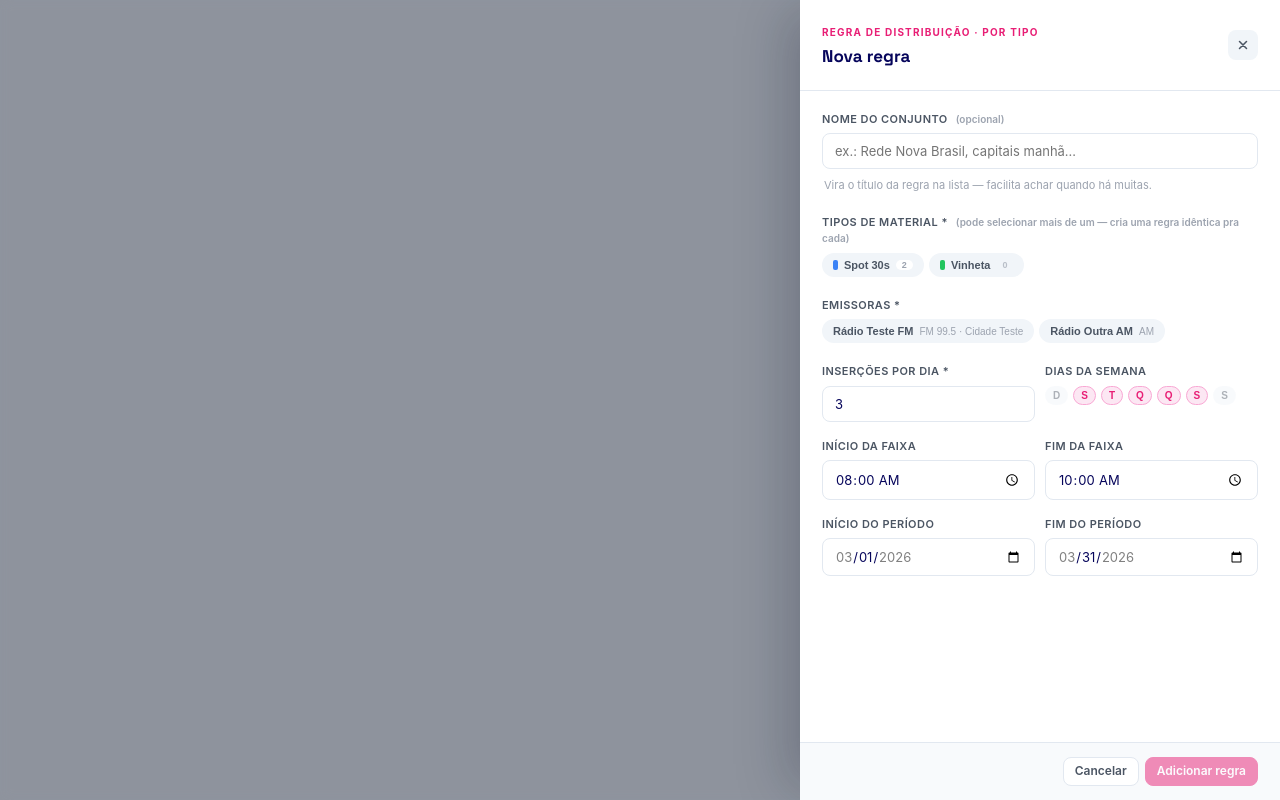
Scenario: RuleSidePanel — criação › "Adicionar regra" fica bloqueado até escolher tipo e emissora
Expected: the button "Adicionar regra" is disabled, 1145,757 -> 1258,786
Click the button "Spot 30s 2": {"x": 873, "y": 264} 822,252 -> 924,276
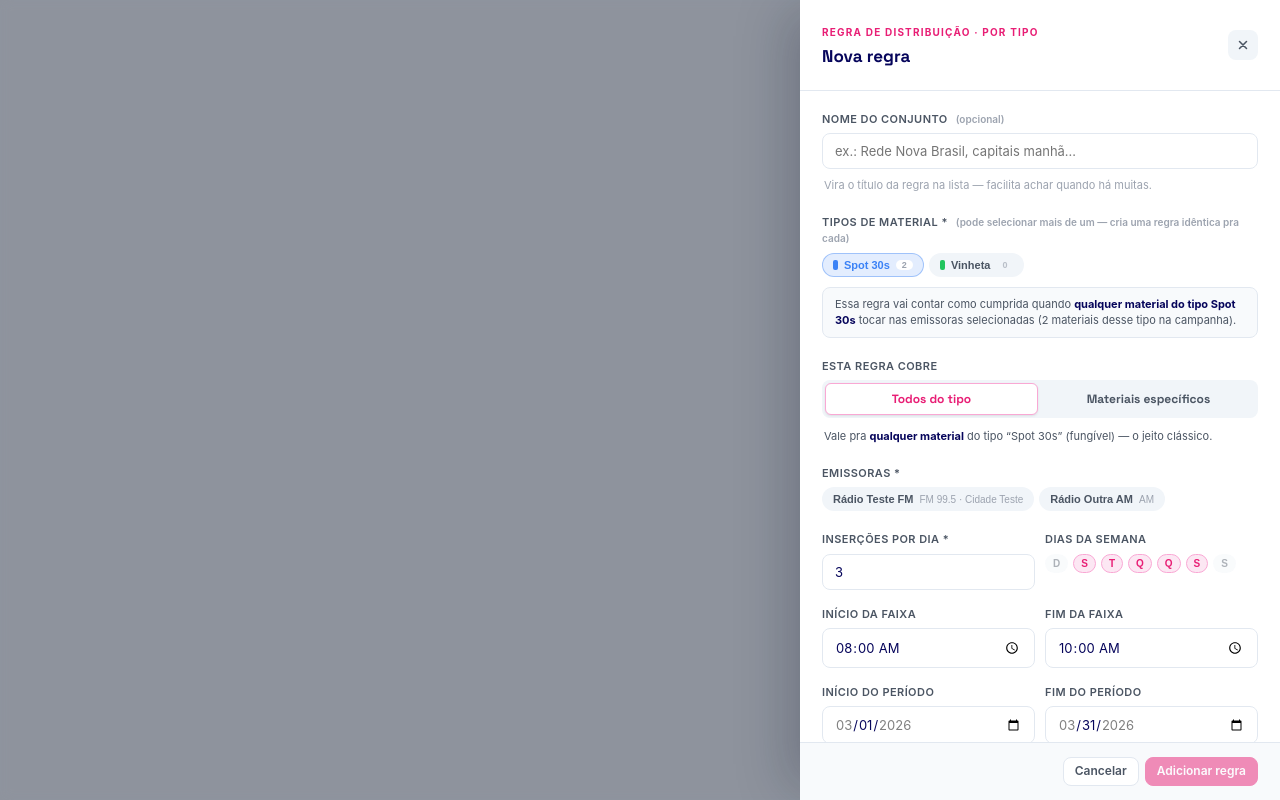
Expected: the button "Adicionar regra" is disabled, 1145,757 -> 1258,786
Click the button "Rádio Teste FM FM 99.5 · Cidade Teste": {"x": 928, "y": 499} 822,487 -> 1034,511
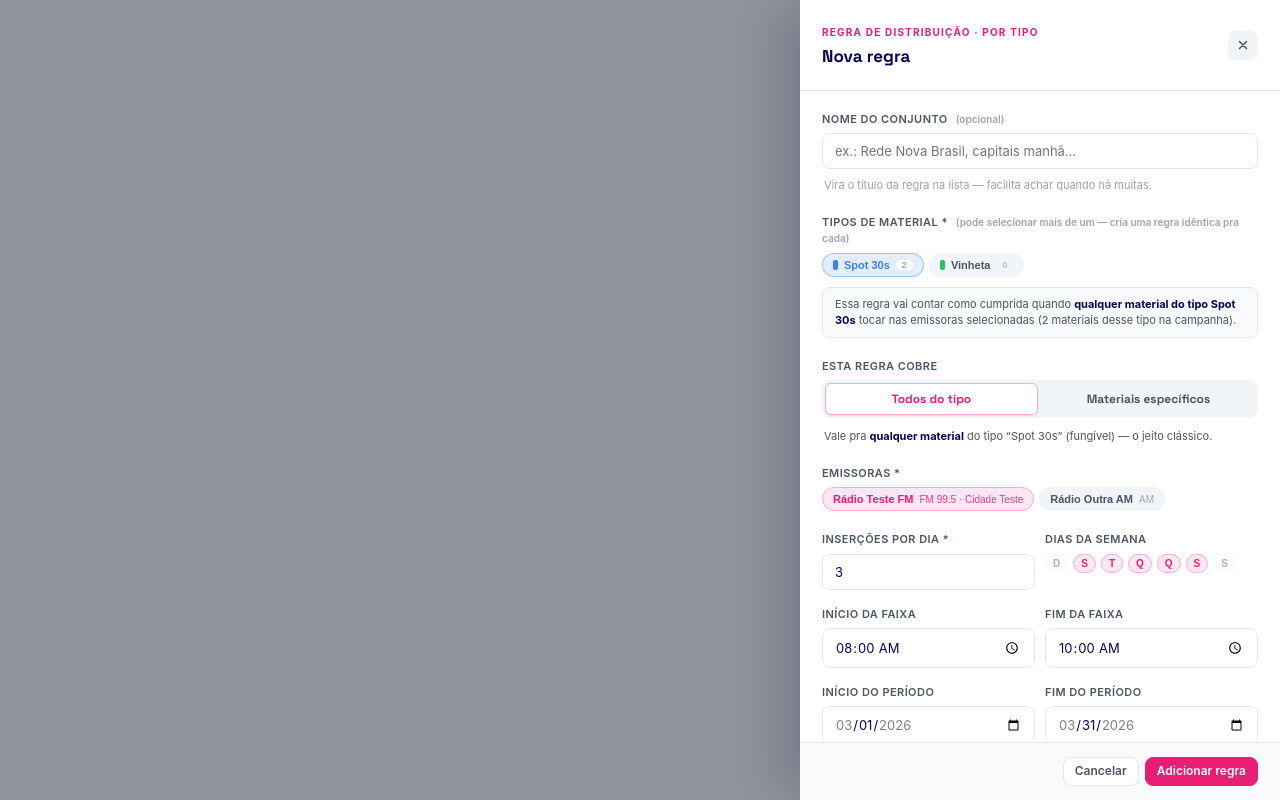
Now the button "Adicionar regra" is enabled, box 1145,757 -> 1258,786
